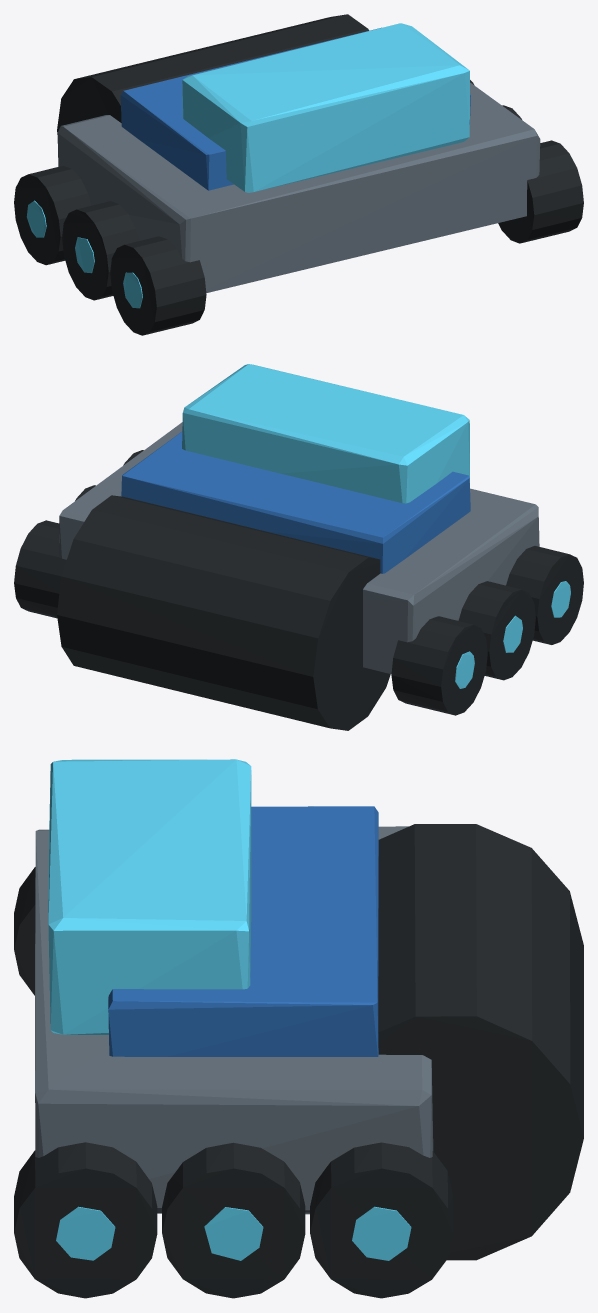
Rendered from SM_Alliance_AL_PioneerHarvester_LOD2.fbx.
3 renders of one model, top to bottom at view 1: azimuth 30°, elevation 25°; view 2: azimuth 150°, elevation 25°; view 3: azimuth 270°, elevation 25°, orthographic. The views are drawn at different scales.
Visible parts, largest first — view 1: LOD02_SM_Alliance_AL_PioneerHarvester; view 2: LOD02_SM_Alliance_AL_PioneerHarvester; view 3: LOD02_SM_Alliance_AL_PioneerHarvester.
Part boxes in pixels (x1,y1,x2,y2): LOD02_SM_Alliance_AL_PioneerHarvester: (14, 14, 583, 335); LOD02_SM_Alliance_AL_PioneerHarvester: (14, 364, 583, 730); LOD02_SM_Alliance_AL_PioneerHarvester: (14, 759, 583, 1298).
Bounding box in the file's own units: 541 × 404 × 255.
